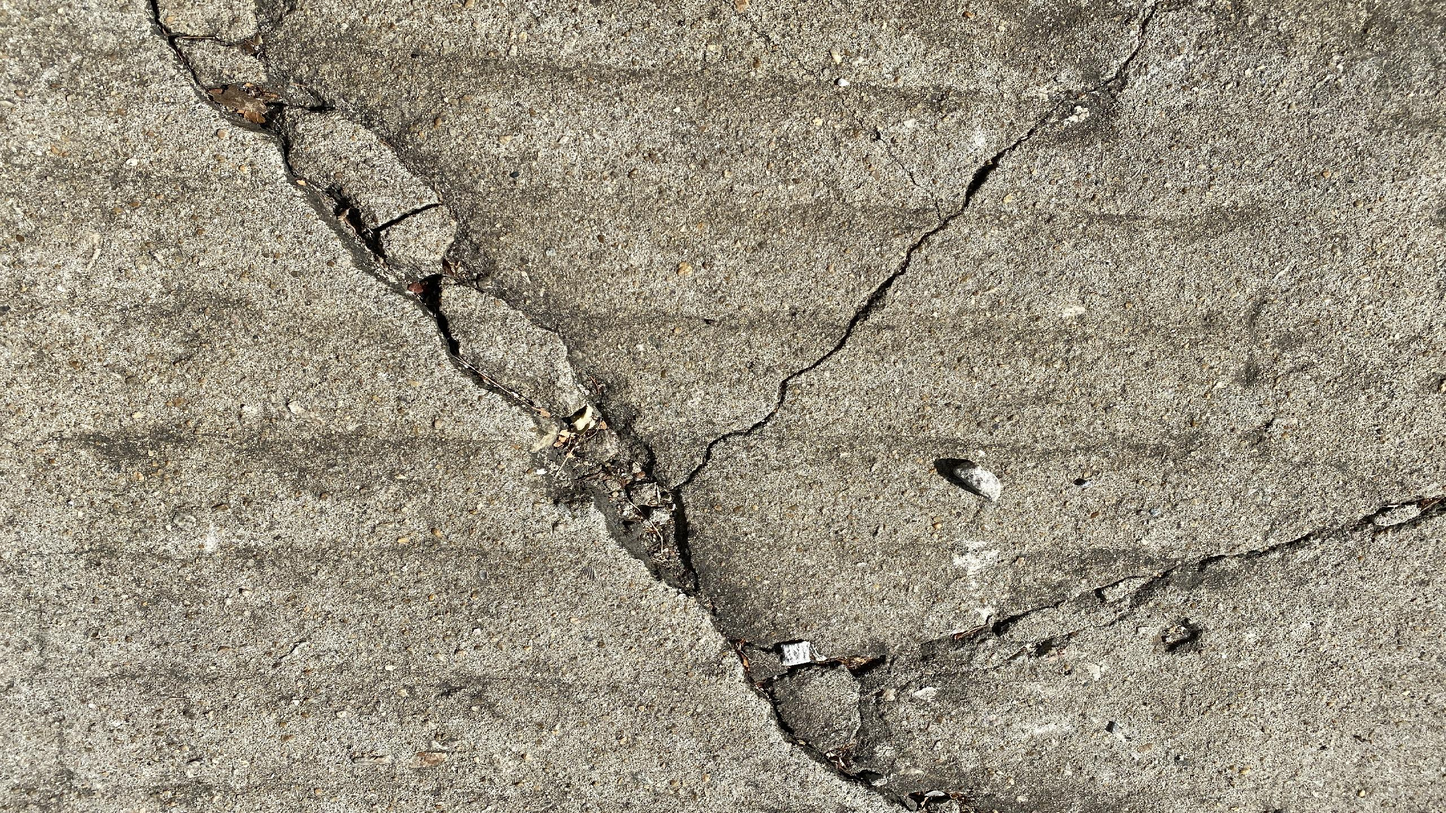crack: (659, 4, 1173, 608), (136, 6, 557, 420), (980, 483, 1442, 650)
